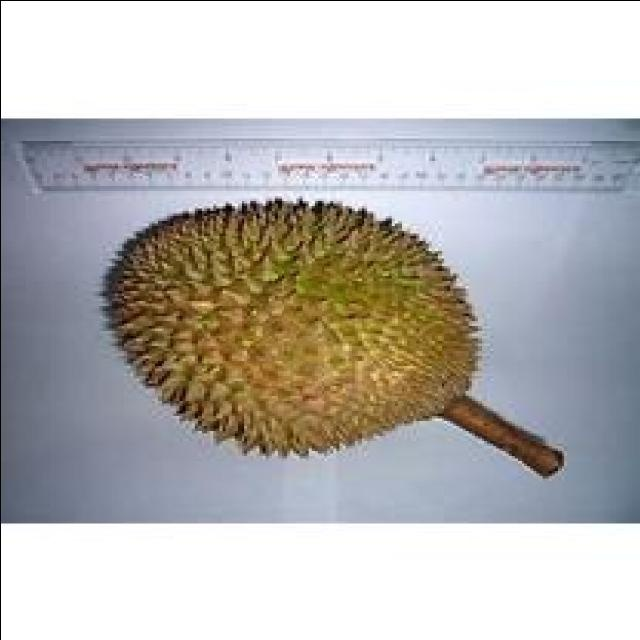agrume: (86, 190, 498, 478)
